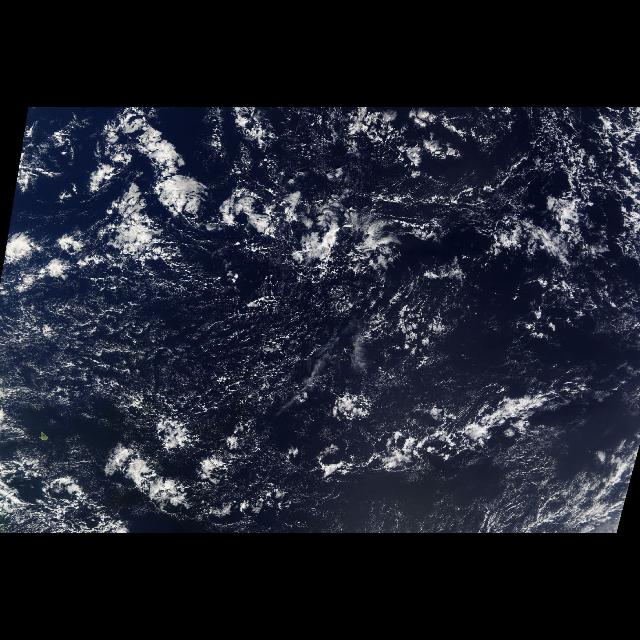Flower: (0, 113, 212, 283)
Gravel: (31, 278, 331, 418)
Sugar: (4, 271, 464, 449)
